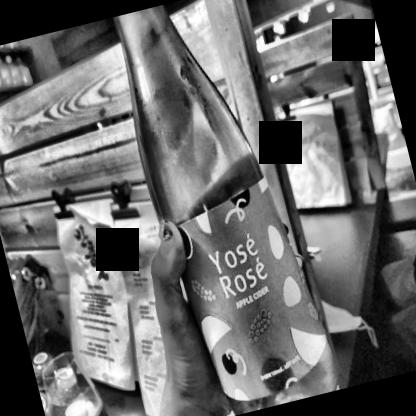yoserose: (180, 202, 316, 384)
